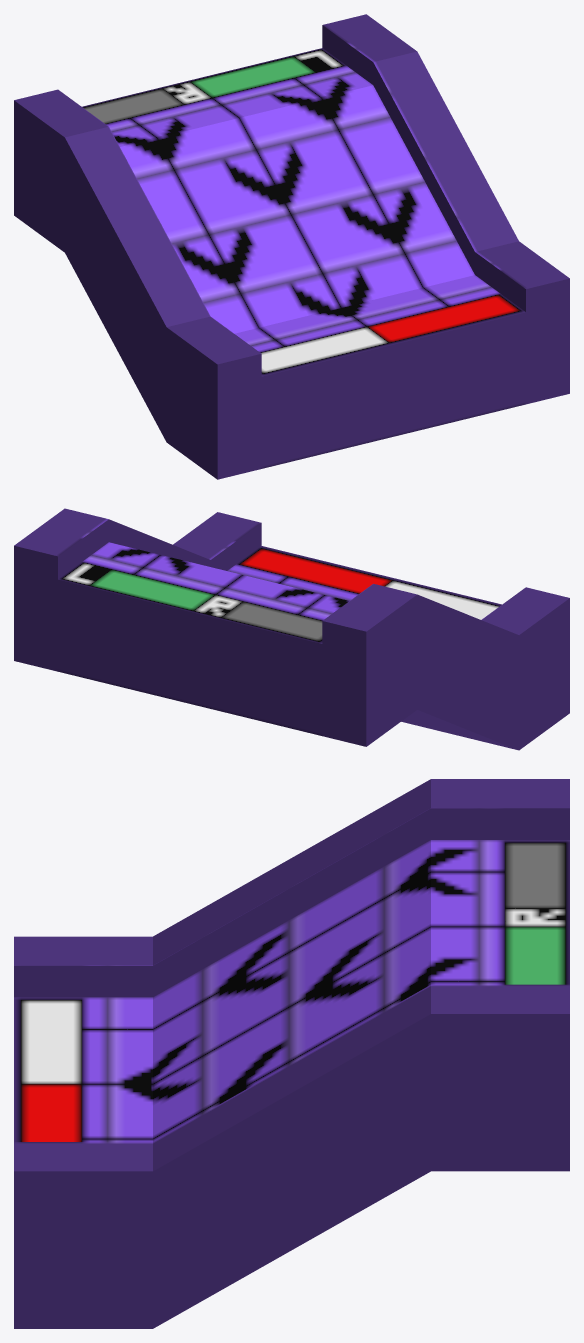
File: front_down.obj
3 renders of one model, top to bottom at view 1: azimuth 30°, elevation 25°; view 2: azimuth 150°, elevation 25°; view 3: azimuth 270°, elevation 25°, orthographic. The views are drawn at different scales.
Parts seen in each view (by area): view 1: FrontDown; view 2: FrontDown; view 3: FrontDown.
Boxes of the visible parts, x1,y1,x2,y2 form: FrontDown: (14,14,569,479); FrontDown: (14,508,569,750); FrontDown: (14,779,569,1328).
Bounding box in the file's own units: 4 × 2.5 × 4.
1 material, 1 textured.
